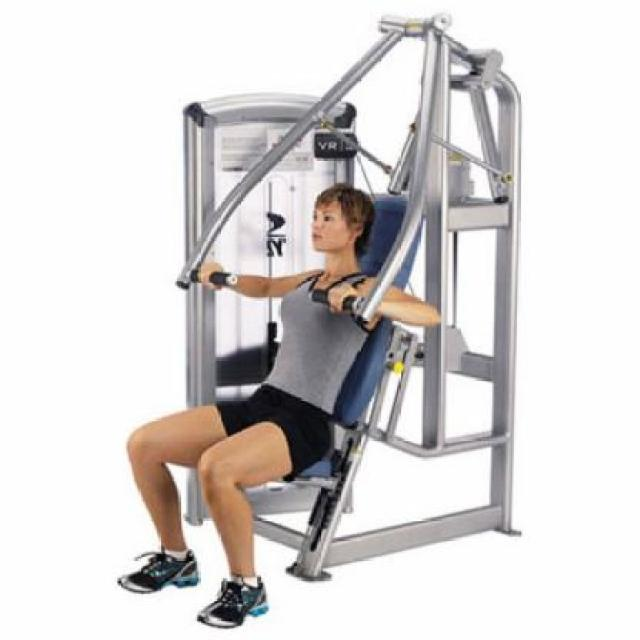Chest Press machine: (112, 11, 537, 632)
